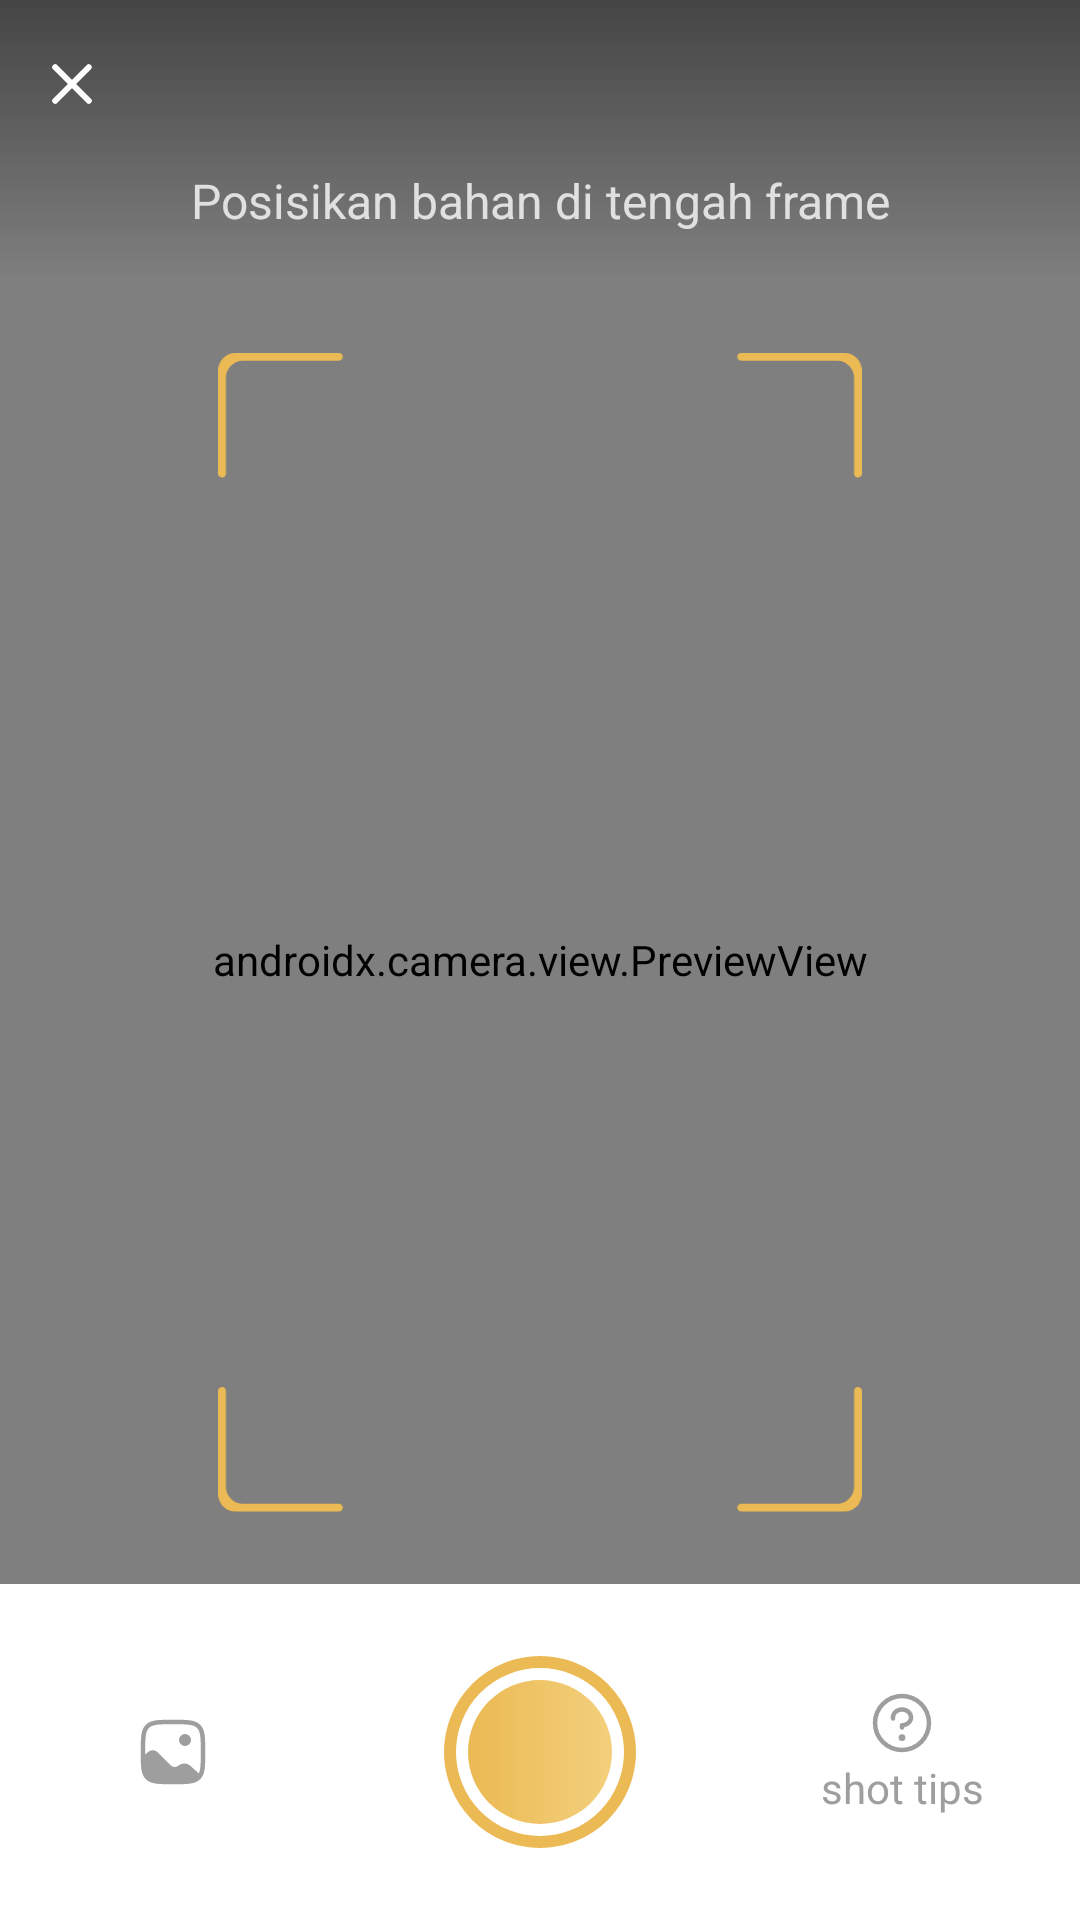

Screen size 1080px x 1920px. Icon name, then its box in pixels as (x1,y1,x2,y2):
Batal: (52,64,92,104)
Buka Gallery: (141,1720,205,1784)
capture: (444,1656,636,1848)
